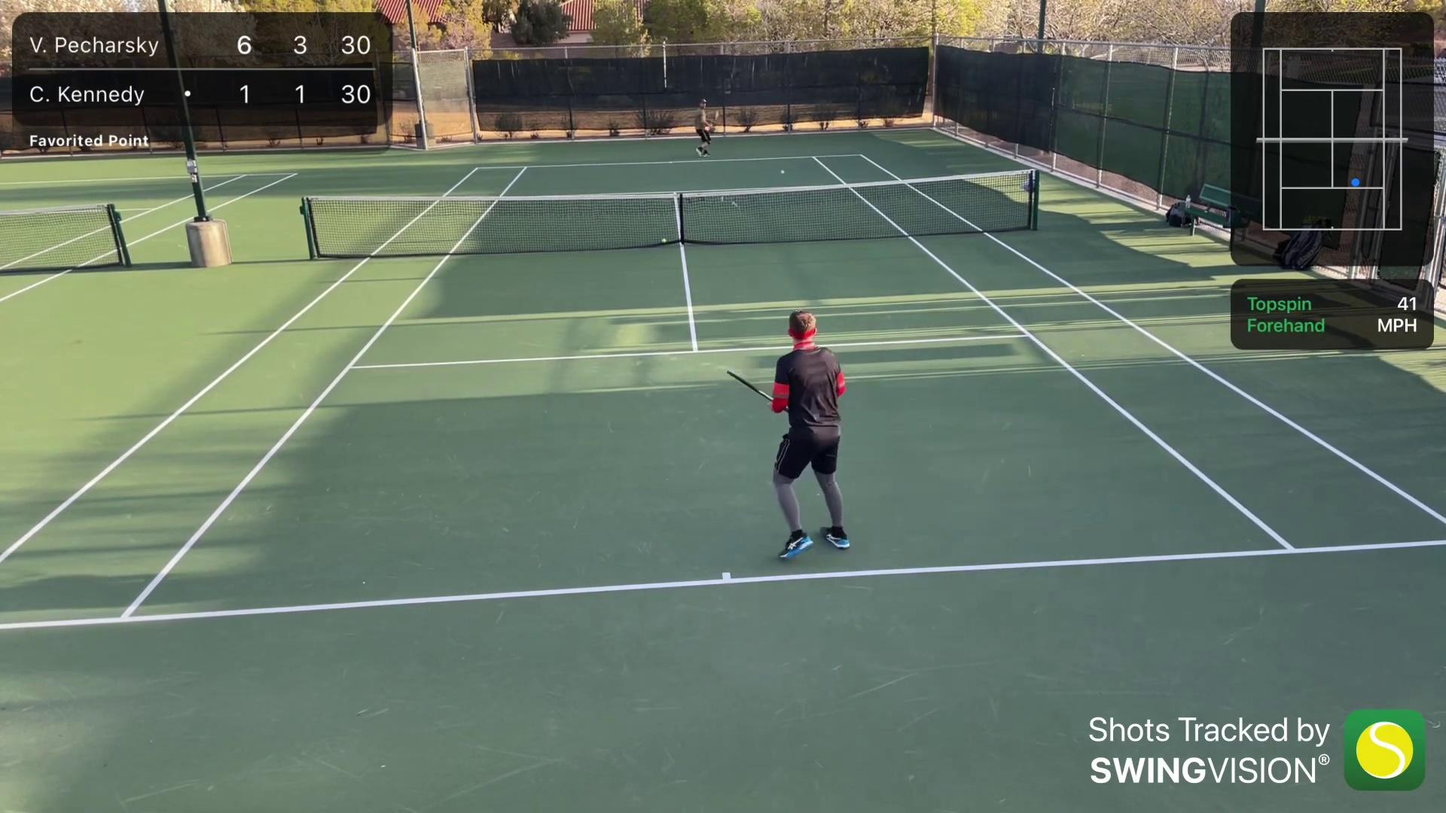ball: (779, 168, 786, 175), (661, 237, 668, 244)
